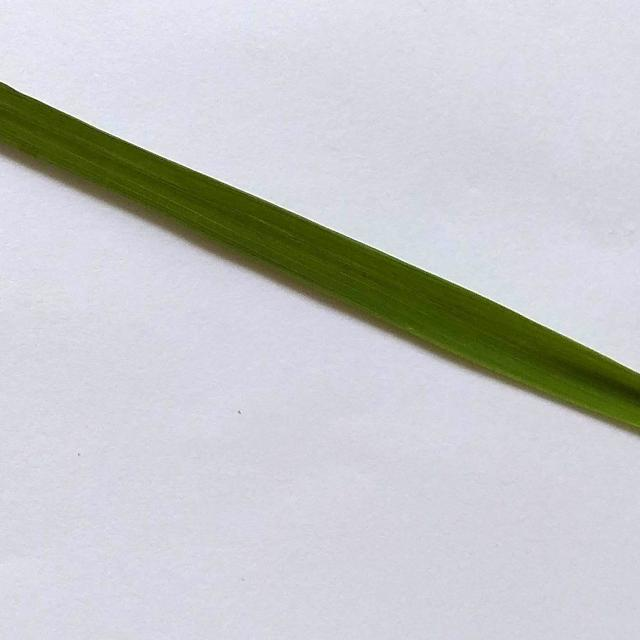Rice_Healthy: (0, 83, 640, 431)
